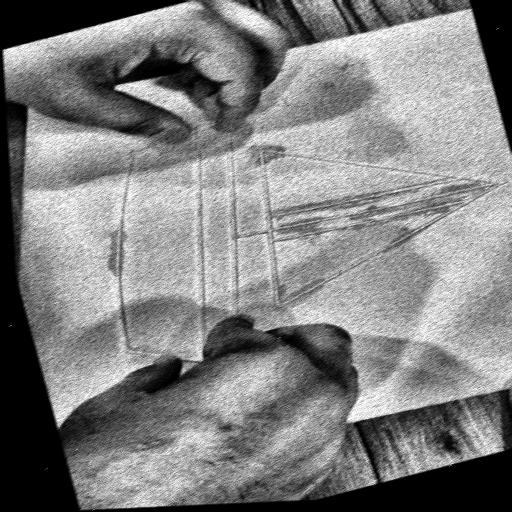boat: (59, 58, 512, 404)
bottom_right: (21, 88, 44, 103)
